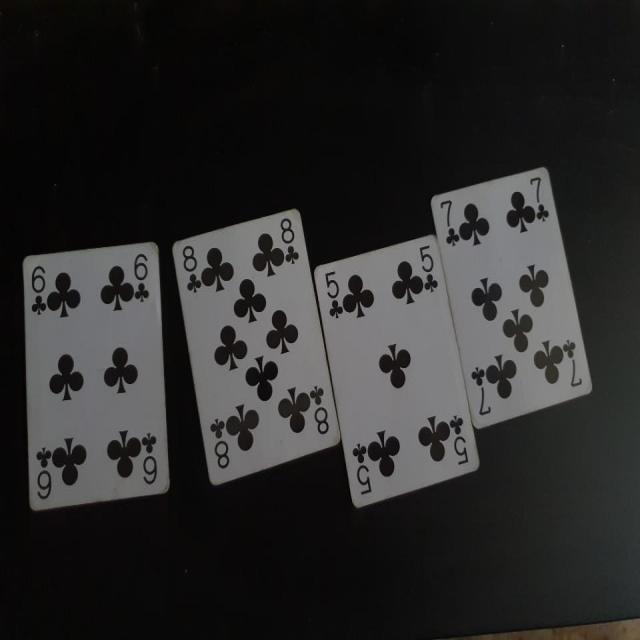5 Trefoils: (311, 233, 483, 510)
6 Trefoils: (21, 240, 170, 511)
7 Trefoils: (430, 165, 596, 428)
8 Trefoils: (170, 203, 339, 489)
